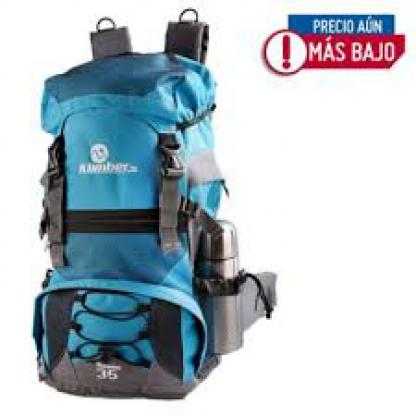morral: (20, 2, 283, 405)
